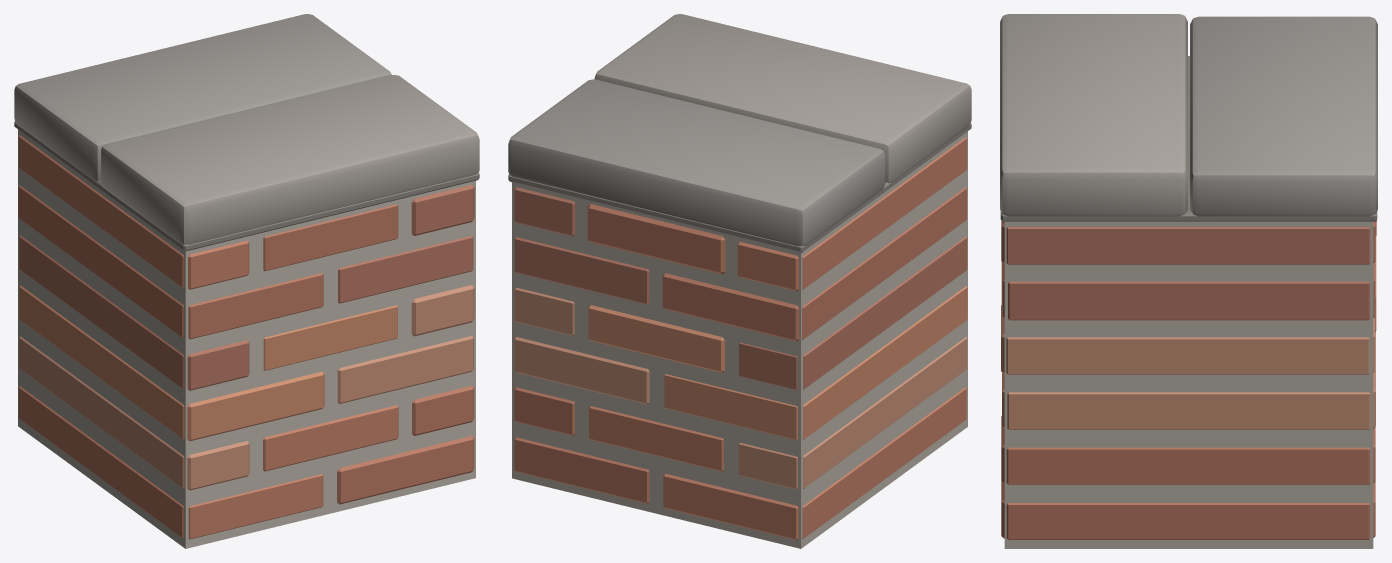
The model's file is wall_0.glb.
3 renders of one model, left to right at view 1: azimuth 30°, elevation 25°; view 2: azimuth 150°, elevation 25°; view 3: azimuth 270°, elevation 25°, orthographic. The views are drawn at different scales.
Parts seen in each view (by area): view 1: wall_0; view 2: wall_0; view 3: wall_0.
Part boxes in pixels (left/top/right/bottom): wall_0: left=14, top=14, right=479, bottom=548; wall_0: left=508, top=14, right=971, bottom=548; wall_0: left=1000, top=14, right=1377, bottom=548.
Size of the model in its own units: 1 by 1.1 by 0.994.
